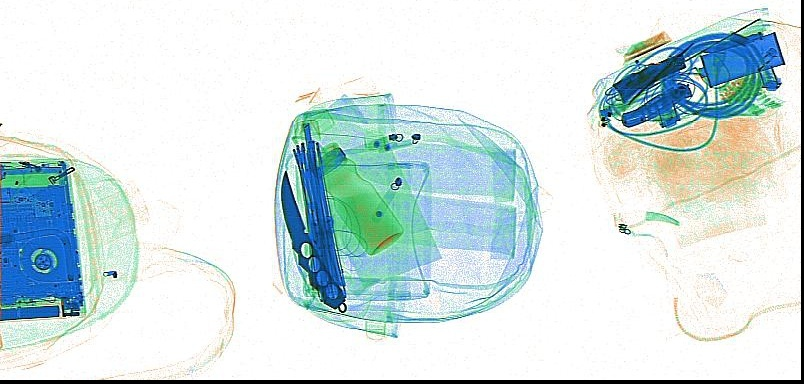knife: (279, 169, 348, 314), (612, 52, 687, 104), (620, 82, 692, 126)
zippooil: (696, 29, 785, 88)
